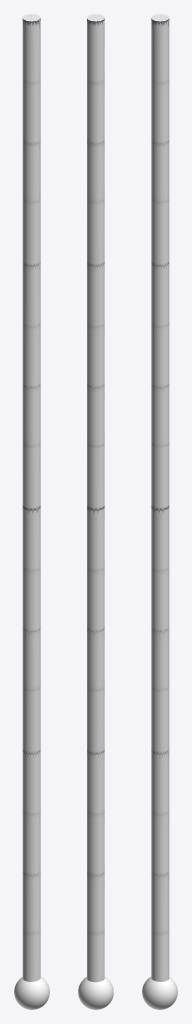
File: mortar_explosion_he.glb
3 views of the same model, side by side, from view 1: azimuth 90°, elevation 25°; view 2: azimuth 150°, elevation 25°; view 3: azimuth 270°, elevation 25° (orthographic).
Parts seen in each view (by area): view 1: Debug Gizmo Line, Debug Gizmo Origin; view 2: Debug Gizmo Line, Debug Gizmo Origin; view 3: Debug Gizmo Line, Debug Gizmo Origin.
Boxes of the visible parts, box(x1,y1,x2,y2) form: Debug Gizmo Line: box(22, 14, 40, 981); Debug Gizmo Origin: box(14, 977, 49, 1009); Debug Gizmo Line: box(87, 14, 104, 982); Debug Gizmo Origin: box(78, 977, 113, 1009); Debug Gizmo Line: box(151, 14, 169, 981); Debug Gizmo Origin: box(142, 977, 177, 1009).
Bounding box in the file's own units: 0.1 × 3.05 × 0.1.
2 materials, 1 textured.
